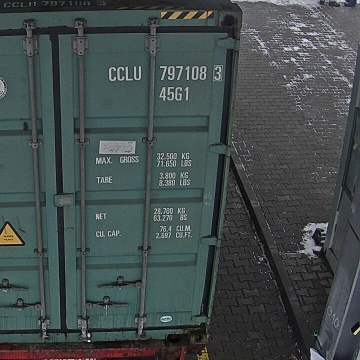serial_id: (108, 65, 222, 81)
